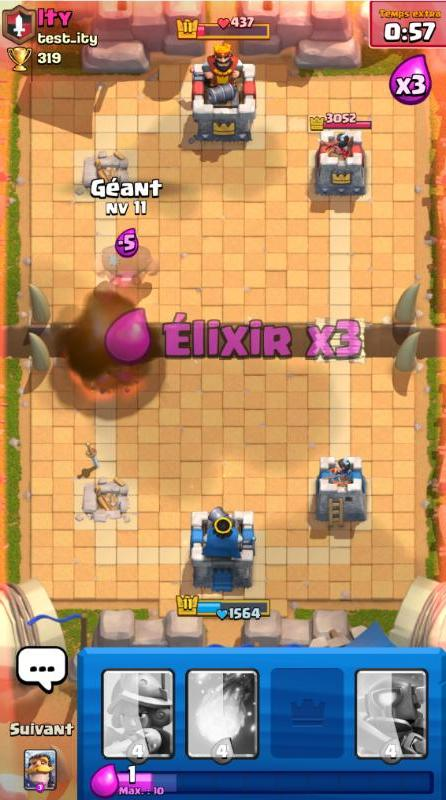geant: (92, 244, 161, 287)
